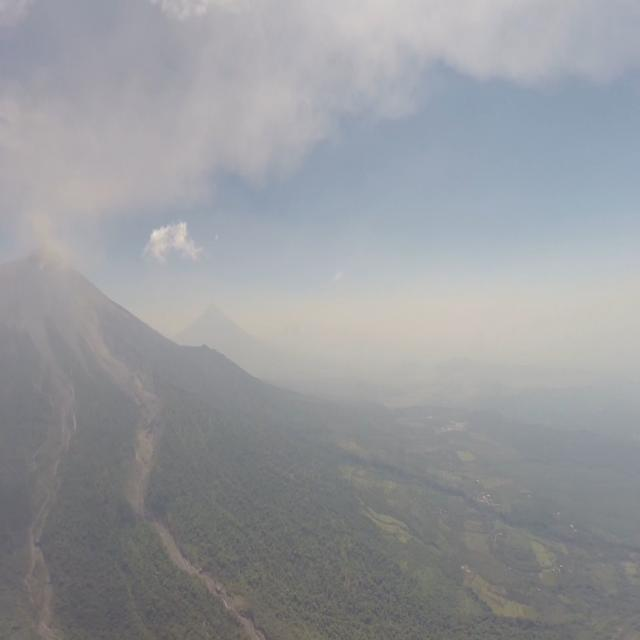Plume: (0, 165, 84, 274)
